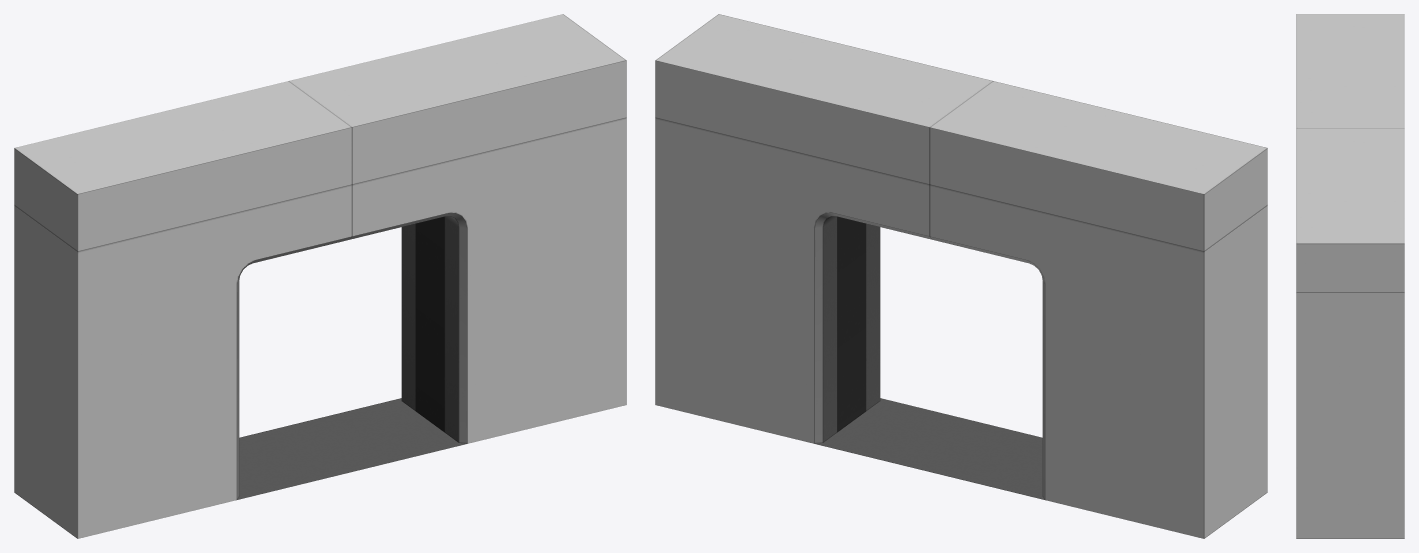
File: Wall_Door_01.FBX
The picture shows the model from 3 angles, left to right: view 1: azimuth 30°, elevation 25°; view 2: azimuth 150°, elevation 25°; view 3: azimuth 270°, elevation 25°; orthographic projection. The views are drawn at different scales.
Visible parts, largest first — view 1: Wall_Door_01; view 2: Wall_Door_01; view 3: Wall_Door_01.
Part boxes in pixels (x1=…): Wall_Door_01: x1=14, y1=14, x2=626, y2=538; Wall_Door_01: x1=655, y1=14, x2=1267, y2=538; Wall_Door_01: x1=1296, y1=14, x2=1404, y2=538.
Bounding box in the file's own units: 10 × 6 × 2.
